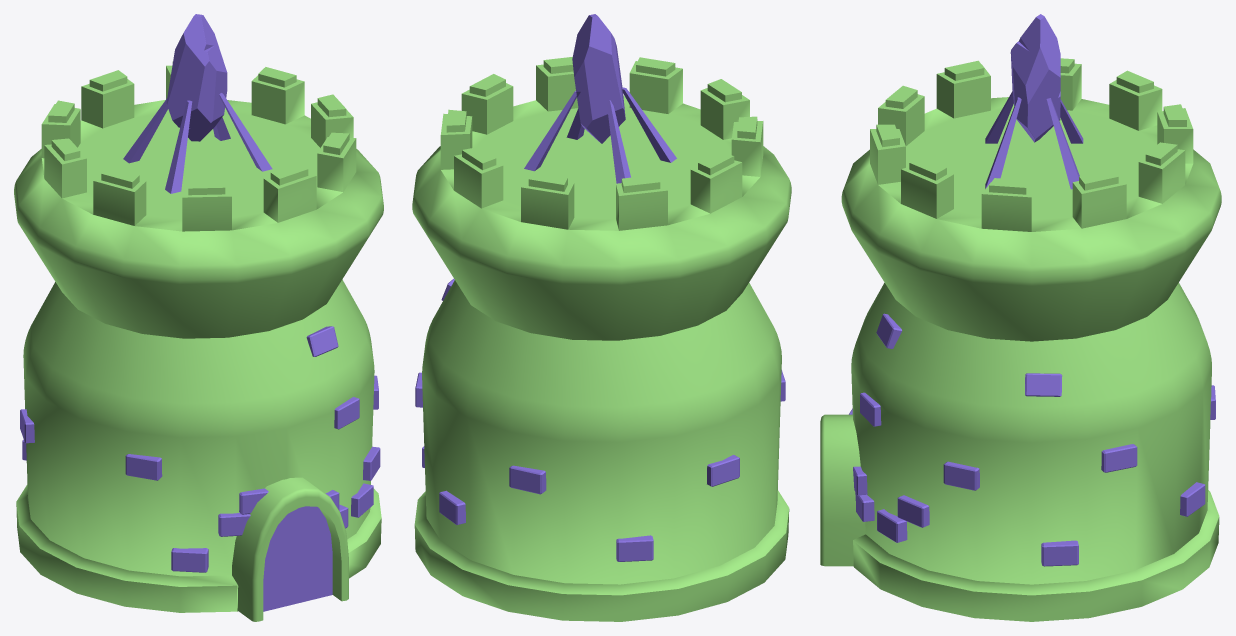
Rendered from towerLV1.fbx.
3 renders of one model, left to right at view 1: azimuth 30°, elevation 25°; view 2: azimuth 150°, elevation 25°; view 3: azimuth 270°, elevation 25°, orthographic. The views are drawn at different scales.
Visible parts, largest first — view 1: Cube.004; view 2: Cube.004; view 3: Cube.004.
Part boxes in pixels (x1,y1,x2,y2): Cube.004: (14, 14, 383, 621); Cube.004: (412, 14, 791, 621); Cube.004: (820, 14, 1221, 621).
Size of the model in its own units: 180 by 276 by 190.
